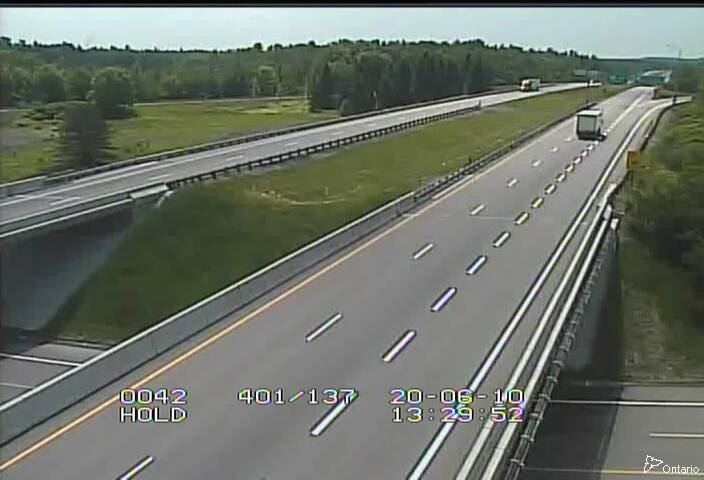time_stamp: (385, 383, 530, 407), (384, 406, 531, 423)
